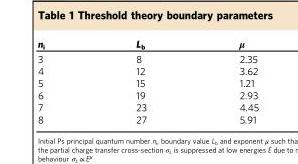table: (36, 37, 258, 124)
table column: (89, 37, 192, 124), (192, 37, 258, 124), (36, 37, 89, 124)
table column header: (36, 37, 258, 51)
table row: (36, 37, 258, 51), (36, 51, 258, 64), (36, 64, 258, 76), (36, 76, 258, 88), (36, 88, 258, 100), (36, 100, 258, 112), (36, 112, 258, 124)
